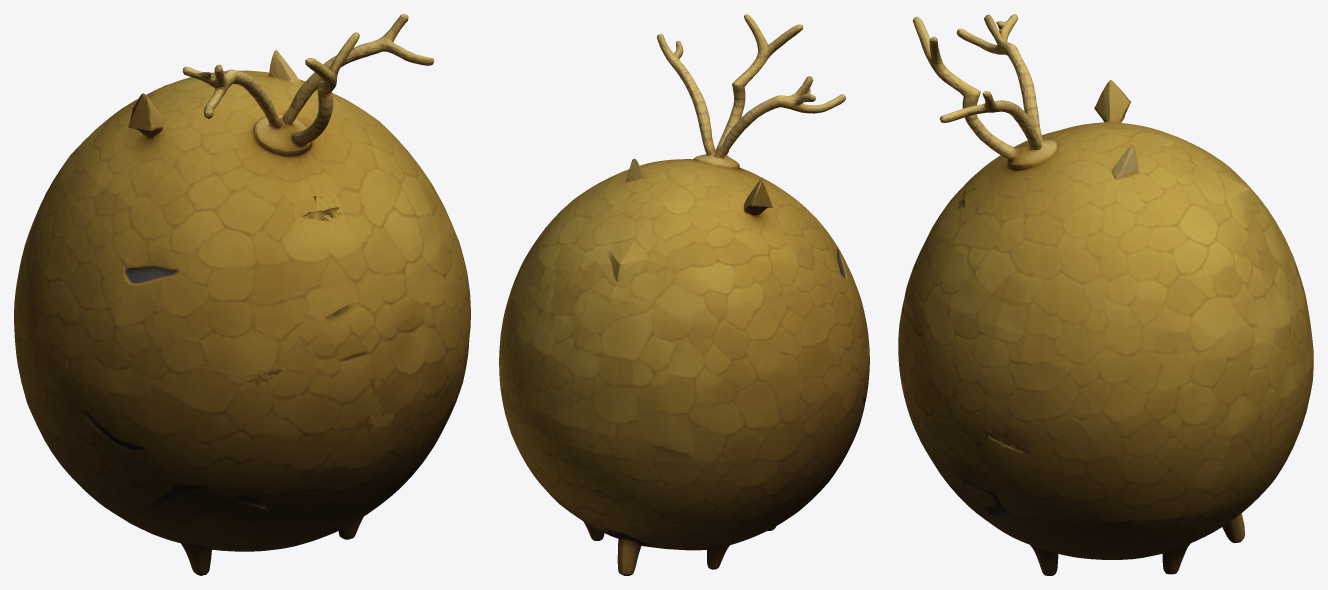
The model's file is model-dbaf04824adf.glb.
3 renders of one model, left to right at view 1: azimuth 30°, elevation 25°; view 2: azimuth 150°, elevation 25°; view 3: azimuth 270°, elevation 25°, orthographic. The views are drawn at different scales.
Parts seen in each view (by area): view 1: world; view 2: world; view 3: world.
Part boxes in pixels (<box>): world: <box>14,14,470,575</box>; world: <box>499,14,869,575</box>; world: <box>898,14,1313,575</box>.
Size of the model in its own units: 0.7246 by 0.9855 by 0.7218.
Materials: 1 (1 with a texture image).
